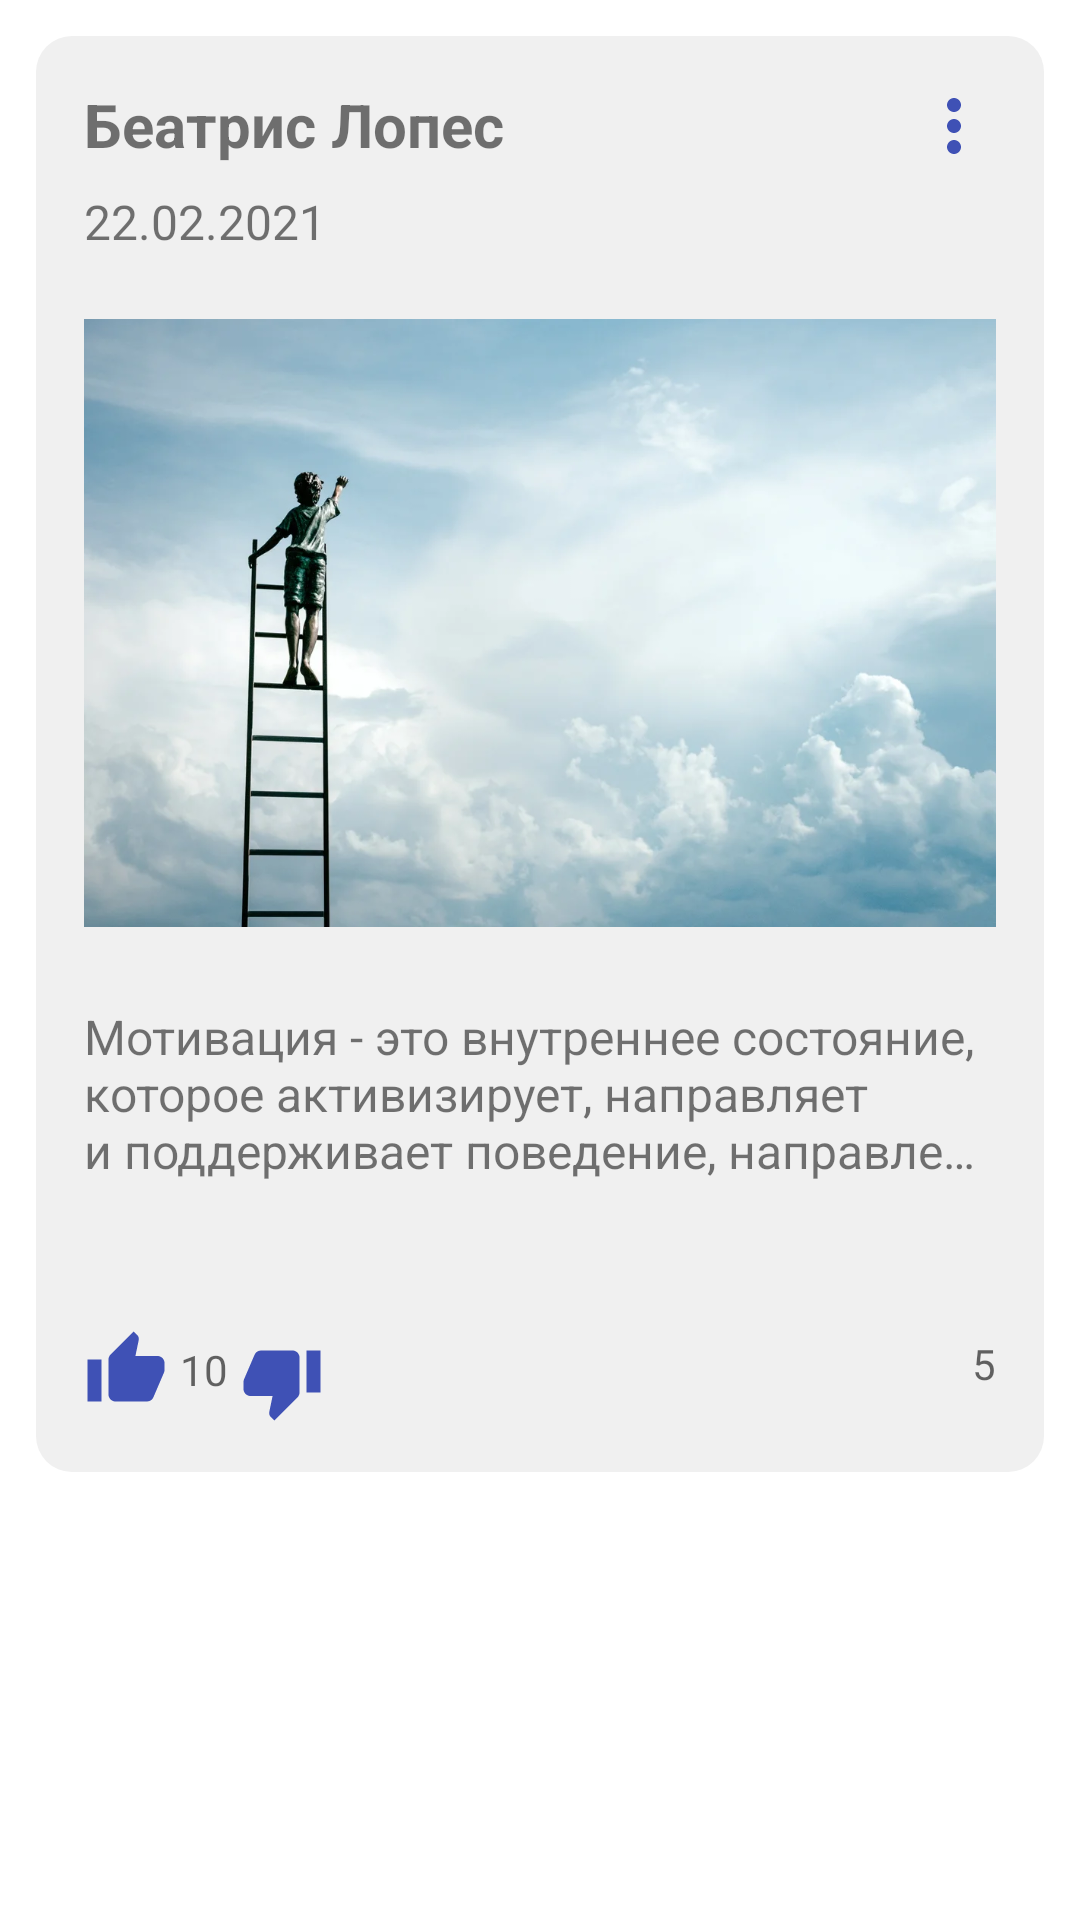

Locate icon controls on the screen. Image size 1080x1920, boxes as (x1, y1, x2, y2).
menu: (947, 98, 961, 154)
